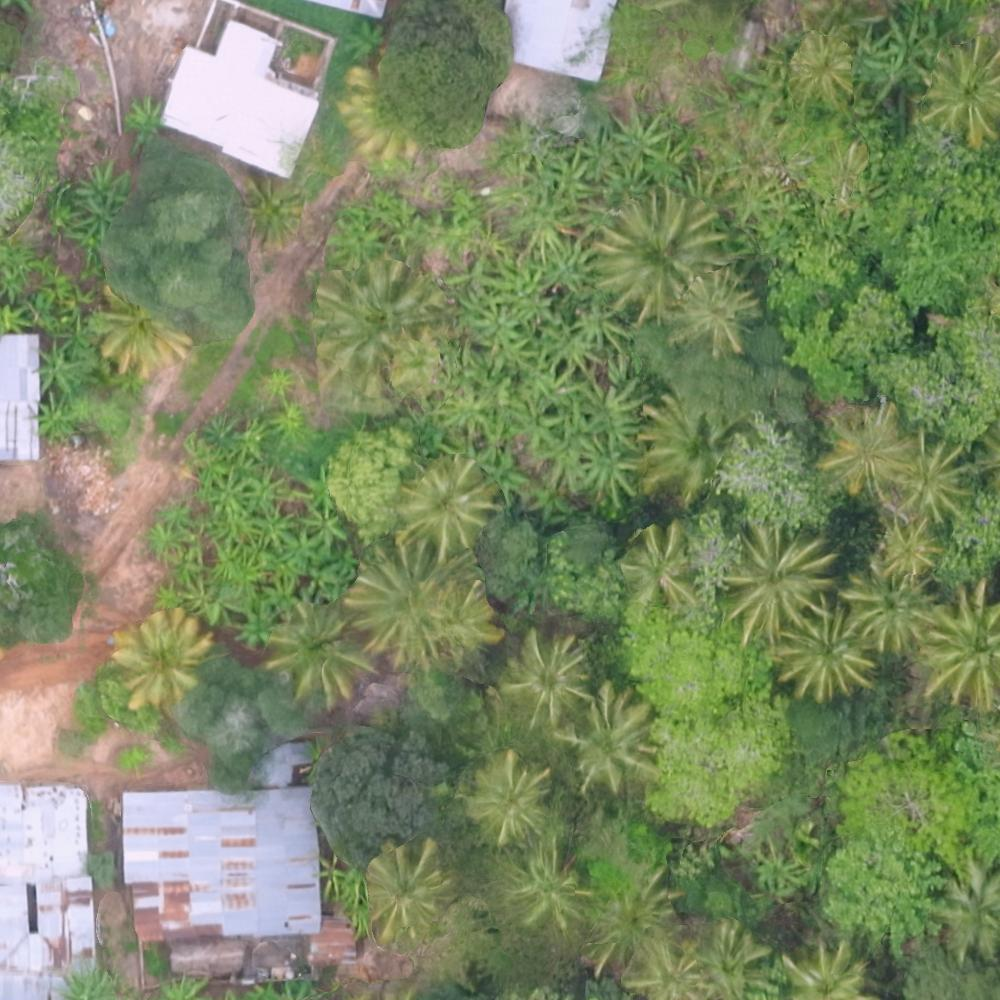Palm: (602, 190, 729, 310), (725, 519, 834, 634), (347, 547, 455, 656), (270, 596, 374, 702), (563, 686, 658, 789), (502, 625, 592, 729), (918, 589, 1000, 703), (779, 602, 869, 699), (115, 610, 201, 706), (470, 751, 557, 843), (920, 39, 1000, 139), (397, 462, 492, 546), (843, 563, 933, 649), (888, 433, 970, 524), (620, 523, 700, 615), (95, 291, 183, 373), (367, 846, 446, 934), (511, 852, 591, 938), (597, 878, 677, 960), (825, 406, 907, 484), (675, 275, 752, 352), (874, 515, 947, 580)
